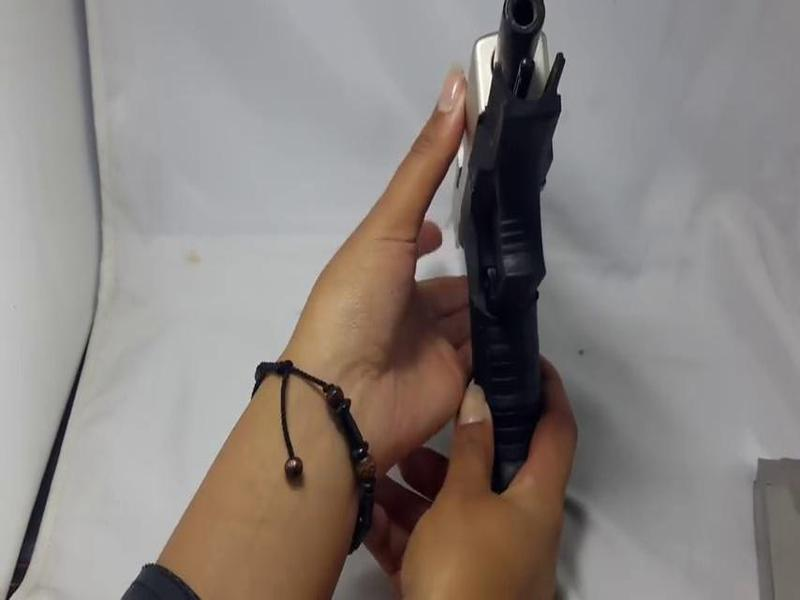Pistola: (342, 1, 597, 525)
